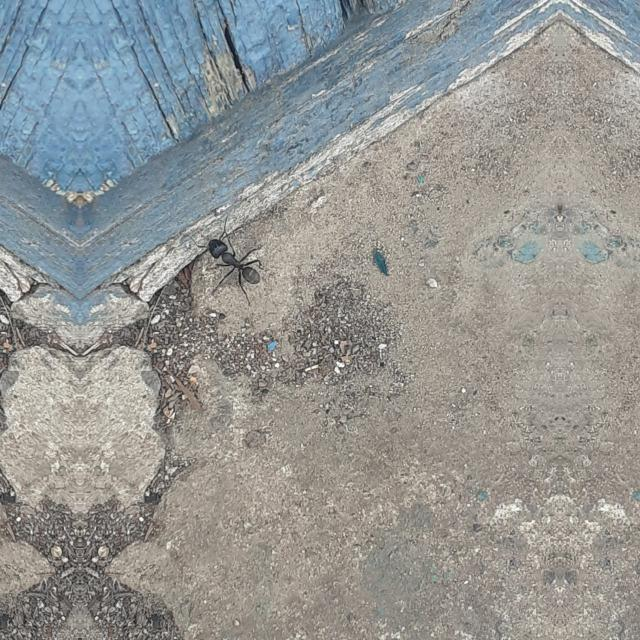Camponotus: (193, 220, 274, 302)
